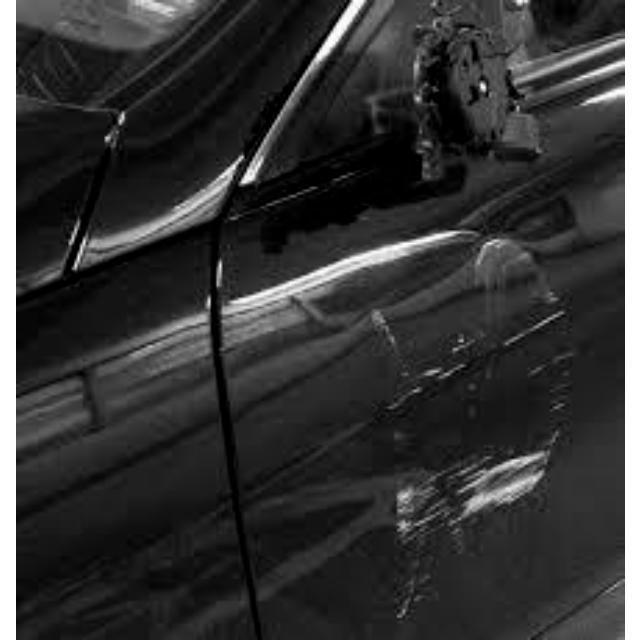doorouter-dent: (266, 62, 622, 615)
